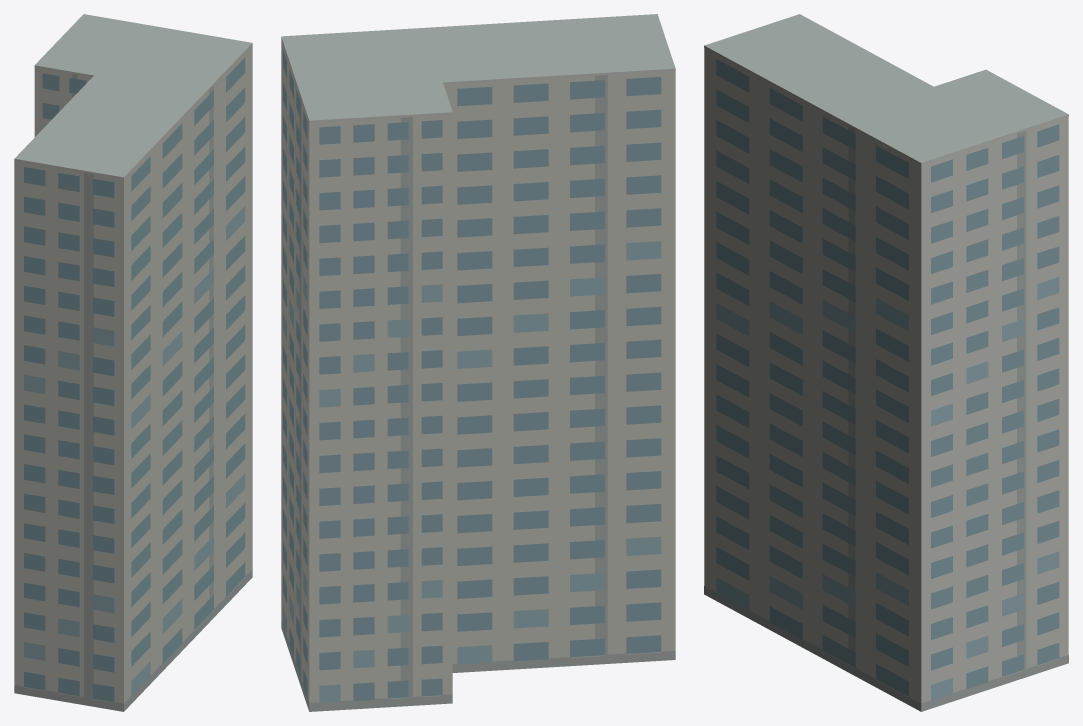
The model's file is residential-9c79d940-9b6b-43d4-aeef-671ce3b86a9e.glb.
3 views of the same model, side by side, from view 1: azimuth 30°, elevation 25°; view 2: azimuth 150°, elevation 25°; view 3: azimuth 270°, elevation 25° (orthographic). The views are drawn at different scales.
Parts seen in each view (by area): view 1: residential-9c79d940-9b6b-43d4-aeef-671ce3b86a9e.tmp; view 2: residential-9c79d940-9b6b-43d4-aeef-671ce3b86a9e.tmp; view 3: residential-9c79d940-9b6b-43d4-aeef-671ce3b86a9e.tmp.
Part boxes in pixels (<box>): residential-9c79d940-9b6b-43d4-aeef-671ce3b86a9e.tmp: <box>14,14,252,711</box>; residential-9c79d940-9b6b-43d4-aeef-671ce3b86a9e.tmp: <box>281,14,675,711</box>; residential-9c79d940-9b6b-43d4-aeef-671ce3b86a9e.tmp: <box>704,14,1068,711</box>.
Size of the model in its own units: 36.11 by 62 by 37.33.
